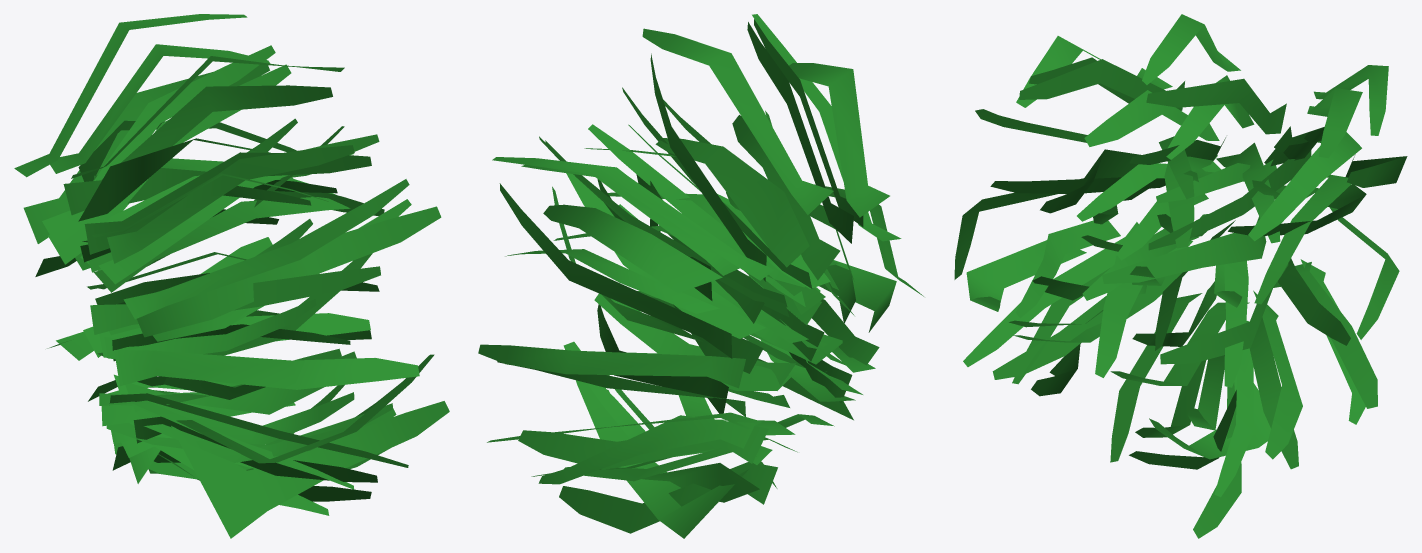
Rendered from Grass.fbx.
The picture shows the model from 3 angles, left to right: view 1: azimuth 30°, elevation 25°; view 2: azimuth 150°, elevation 25°; view 3: azimuth 270°, elevation 25°; orthographic projection. The views are drawn at different scales.
Parts seen in each view (by area): view 1: Plane.001; view 2: Plane.001; view 3: Plane.001.
Part boxes in pixels (box(x1,y1,x2,y2)): Plane.001: box(14, 14, 449, 538); Plane.001: box(478, 14, 923, 538); Plane.001: box(954, 14, 1407, 538).
Size of the model in its own units: 1479 by 2065 by 1876.
